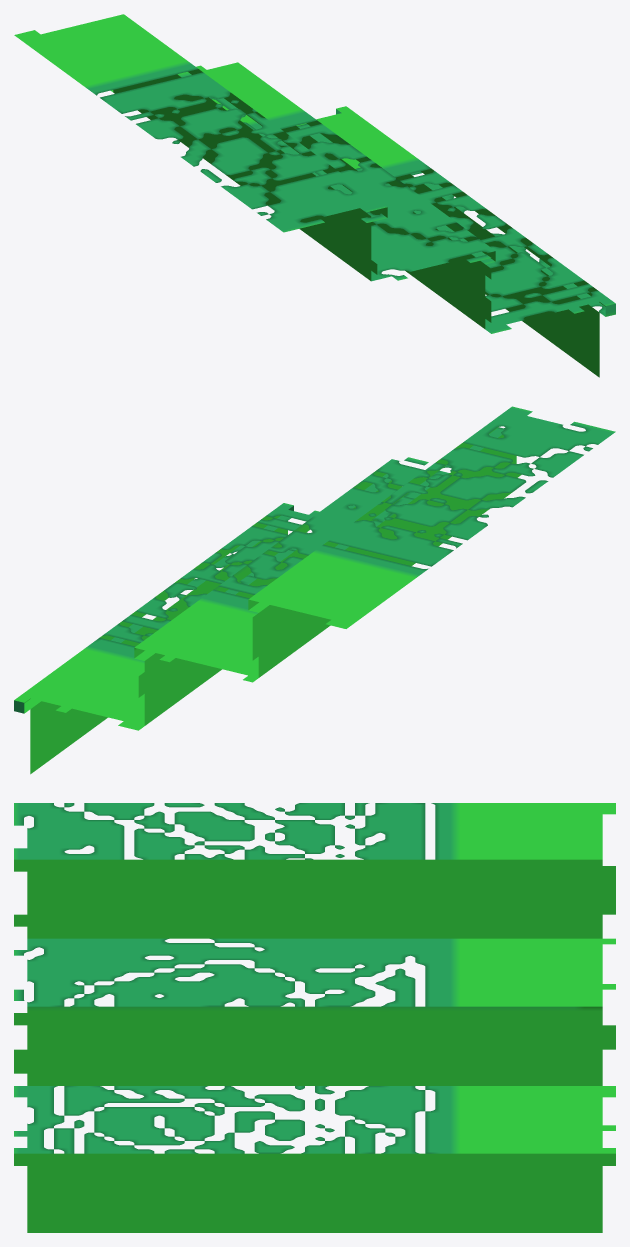
The model's file is Stairs.obj.
3 views of the same model, one above another, from view 1: azimuth 30°, elevation 25°; view 2: azimuth 150°, elevation 25°; view 3: azimuth 270°, elevation 25° (orthographic). The views are drawn at different scales.
Visible parts, largest first — view 1: Cube.346; view 2: Cube.346; view 3: Cube.346.
Part boxes in pixels (x1,y1,x2,y2): Cube.346: (14, 14, 615, 377); Cube.346: (14, 406, 615, 774); Cube.346: (14, 803, 615, 1232).
Size of the model in its own units: 3.2 by 2.1 by 4.5.
